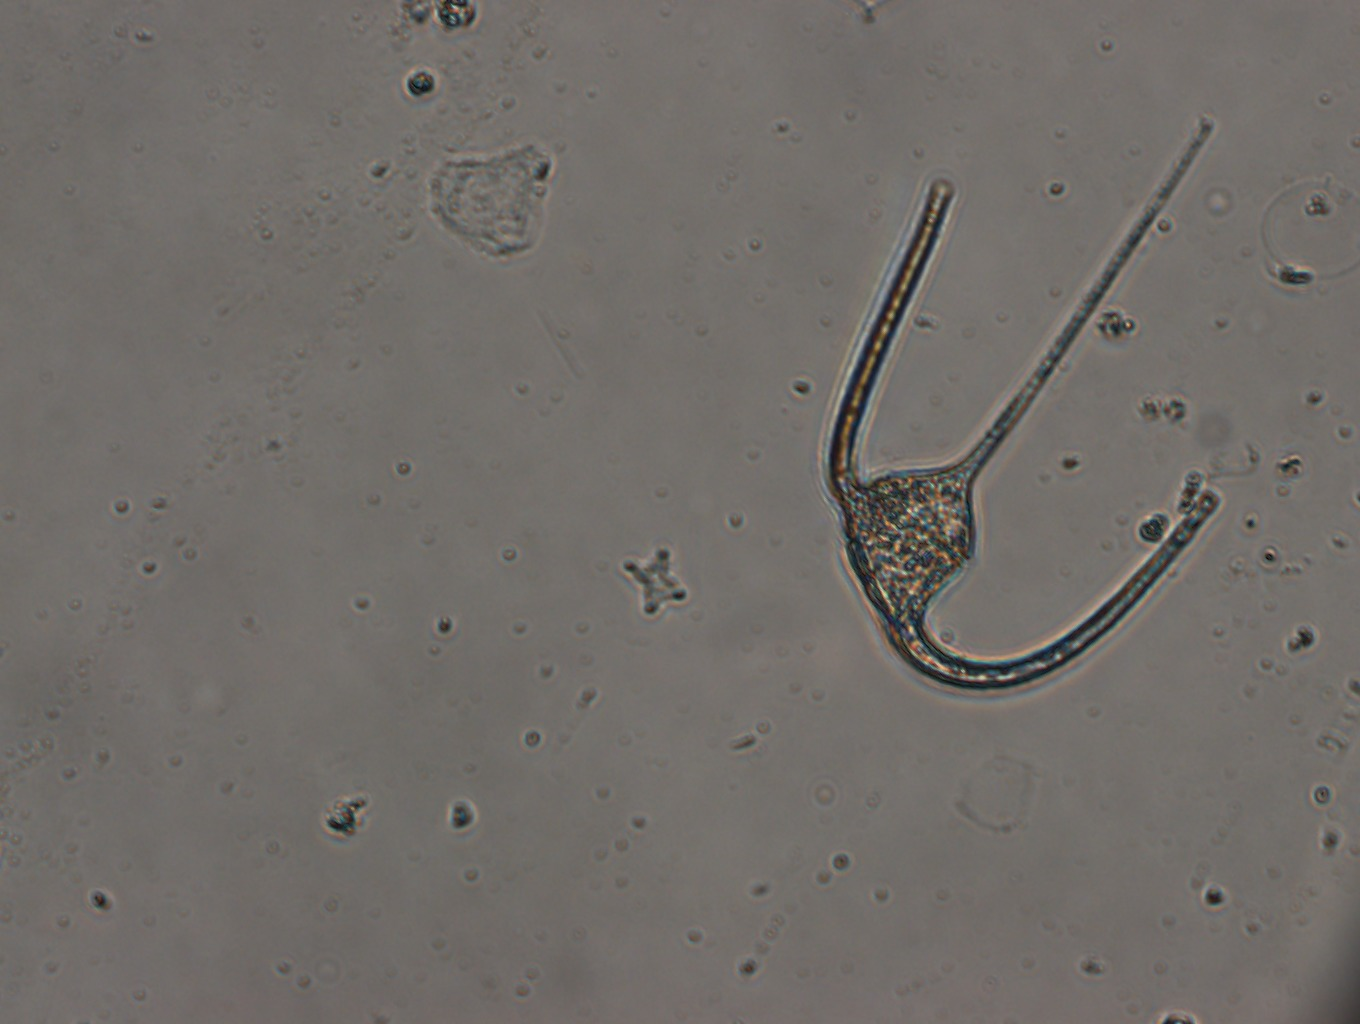ceratium trichoceros: (824, 114, 1223, 689)
